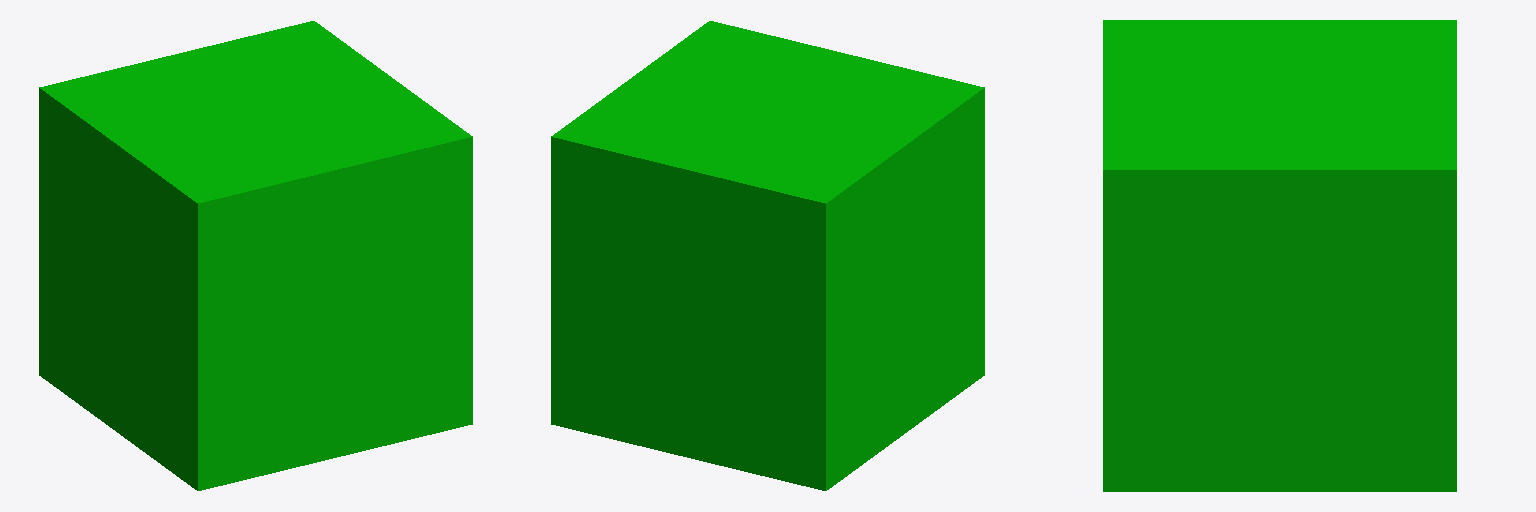
robot.urdf — robot:
<robot name="robot">
  <link name="base_footprint"></link>
  <joint name="base_joint" type="fixed">
    <parent link="base_footprint" />
    <child link="base_link" />
    <origin xyz="0 0 1" rpy="0 0 0" />
  </joint>
  <link name="base_link">
    <visual>
      <origin xyz="0 0 0" rpy="0 0 0" />
      <geometry>
        <box size="2 2 2" />
      </geometry>
      <material name="base_link-material">
        <color rgba="0.035601314869097636 0.7681511472425809 0.05286064701616471 1" />
      </material>
    </visual>
    <collision>
      <origin xyz="0 0 0" rpy="0 0 0" />
      <geometry>
        <box size="1 1 1" />
      </geometry>
    </collision>
    <inertial>
      <origin xyz="0 0 0" rpy="0 0 0" />
      <mass value="1" />
      <inertia ixx="0.16666666666666666" ixy="0" ixz="0" iyy="0.16666666666666666" iyz="0" izz="0.16666666666666666" />
    </inertial>
  </link>
</robot>

--- Facts derived from the render (not from the file) ---
The picture shows the robot from 3 angles, left to right: view 1: azimuth 30°, elevation 25°; view 2: azimuth 150°, elevation 25°; view 3: azimuth 270°, elevation 25°; orthographic projection.
Model robot with 2 links and 1 joints (1 fixed), rooted at base_footprint, posed every joint at zero.
Visible links, largest first — view 1: base_link; view 2: base_link; view 3: base_link.
Boxes of the visible links, <box> form: base_link: <box>39,21,472,490</box>; base_link: <box>551,21,984,490</box>; base_link: <box>1103,20,1456,491</box>.
Size in the robot's own frame: 2 by 2 by 2 metres.
Geometry: primitives only (box / cylinder / sphere), no mesh files.